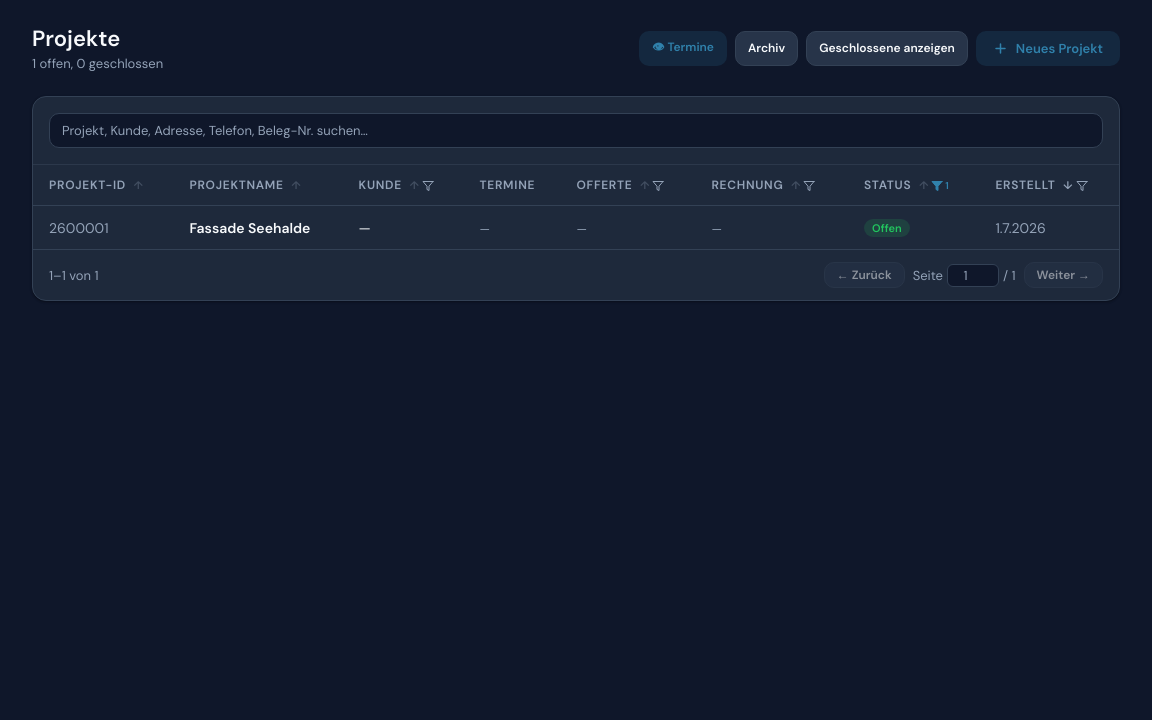
ProjectsScreen — bestehendes Projekt speichert selbst › hat keinen Speichern-Knopf, sondern die Statuszeile
This screenshot has width=1152, height=720.
Click the text "Fassade Seehalde".
click(250, 228)  # box [189,218,310,236]
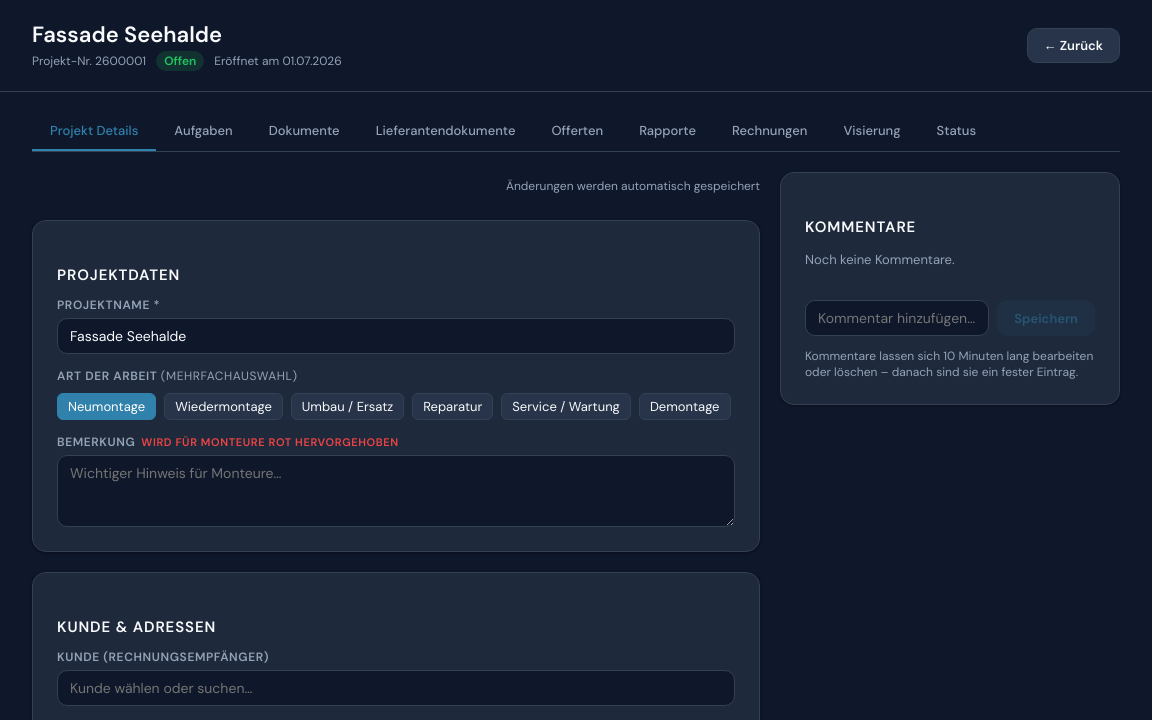
Check: the field labelled "Projektname *" is shown, box [57,318,735,354]
Check: the message reads "Änderungen werden automatisch gespeichert", box [506,178,760,194]
